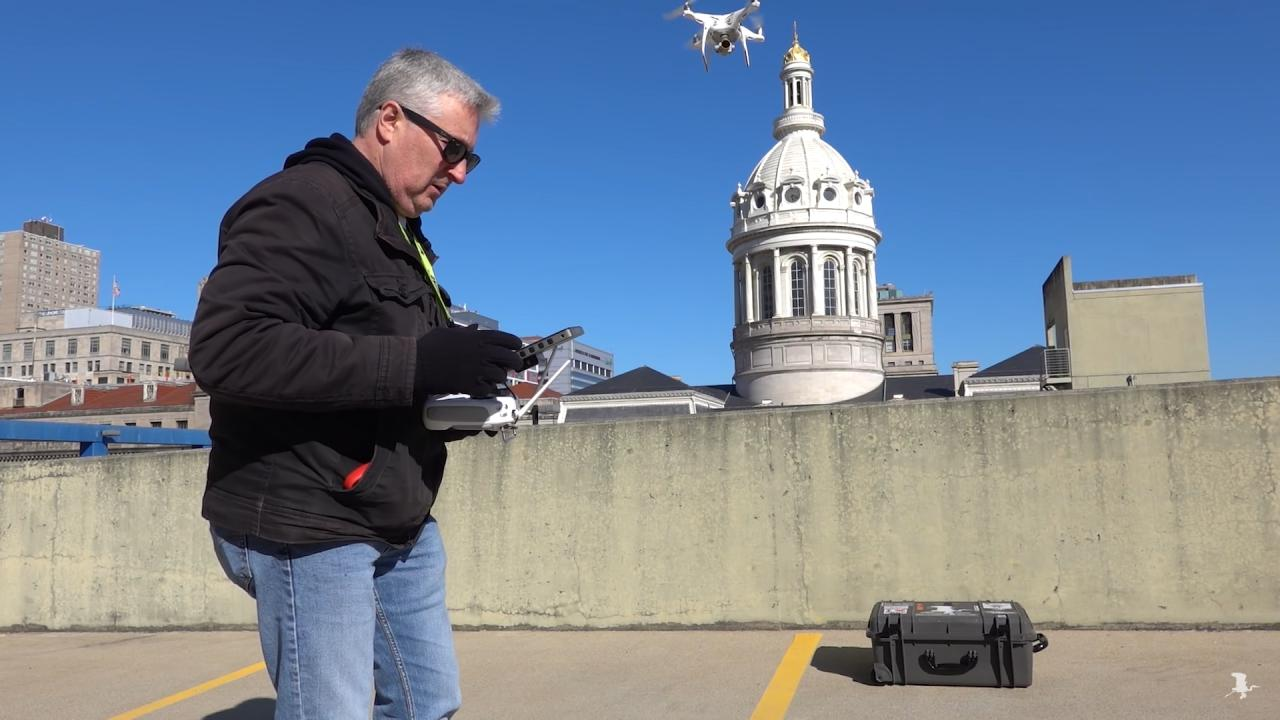Drone: (654, 0, 790, 83)
